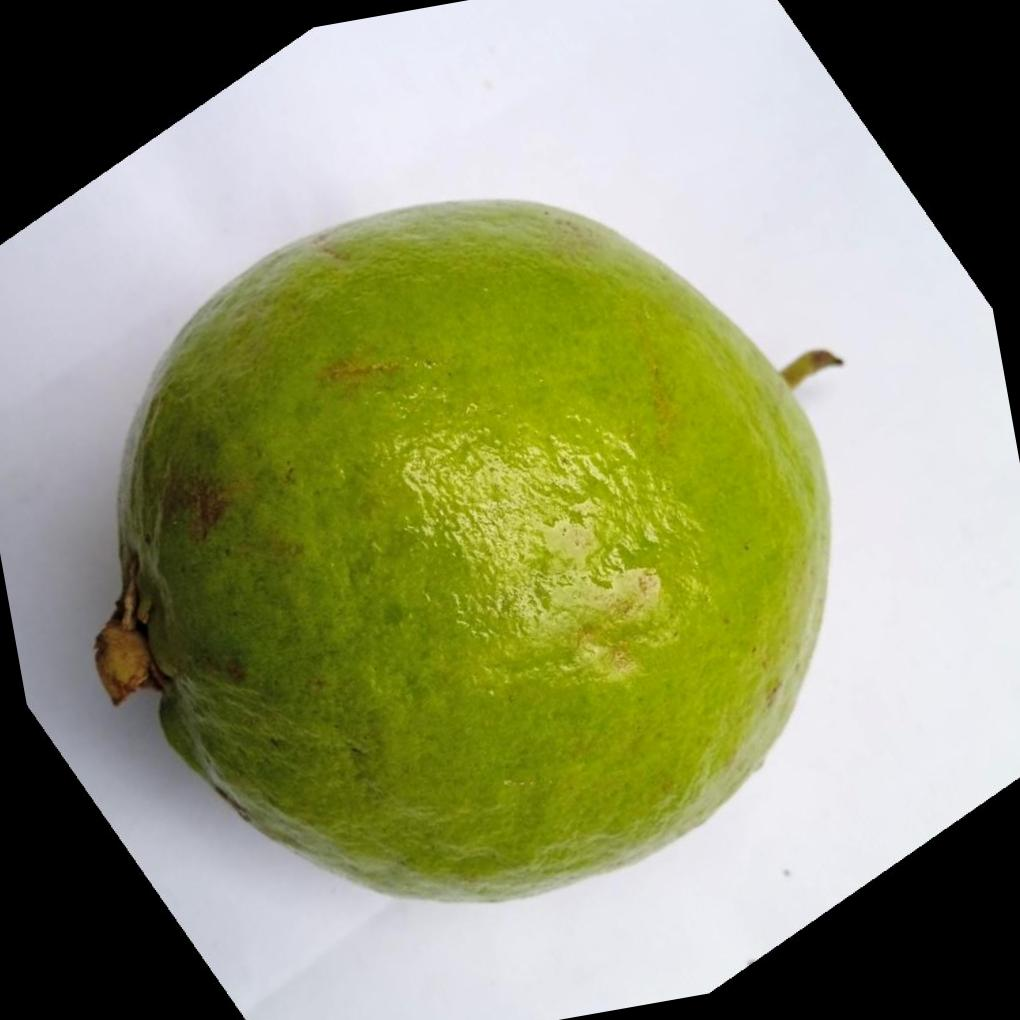FreshGuava: (100, 198, 835, 909)
